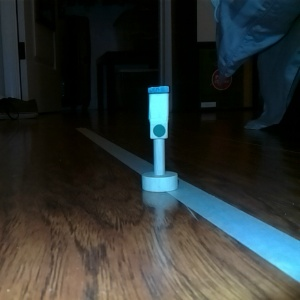traffic light green: (139, 83, 180, 194)
